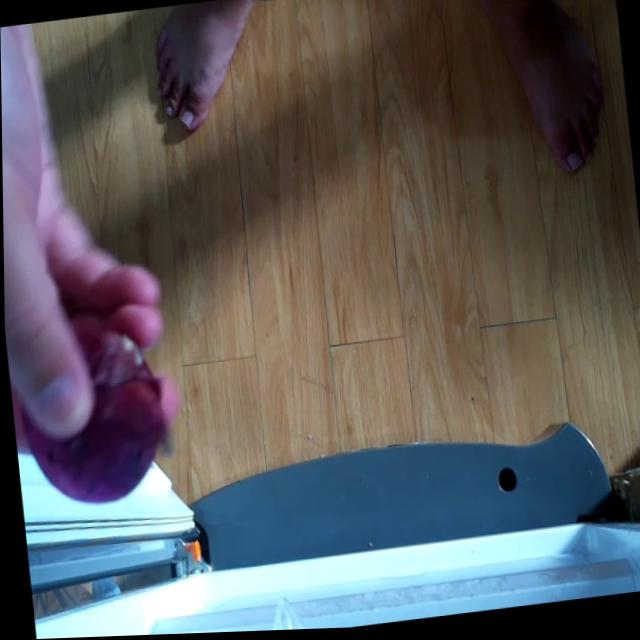onion: (8, 309, 172, 512)
